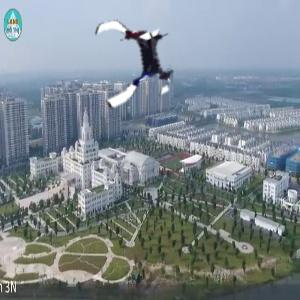drone: (85, 11, 183, 109)
